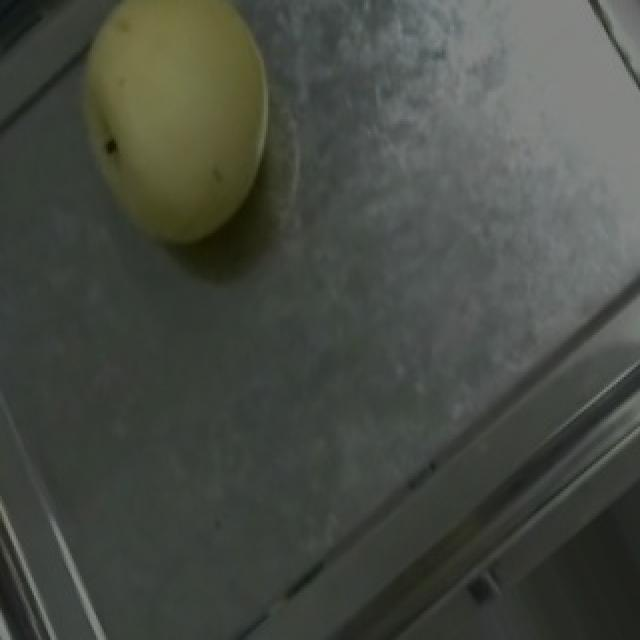Fruit: (12, 0, 324, 295)
